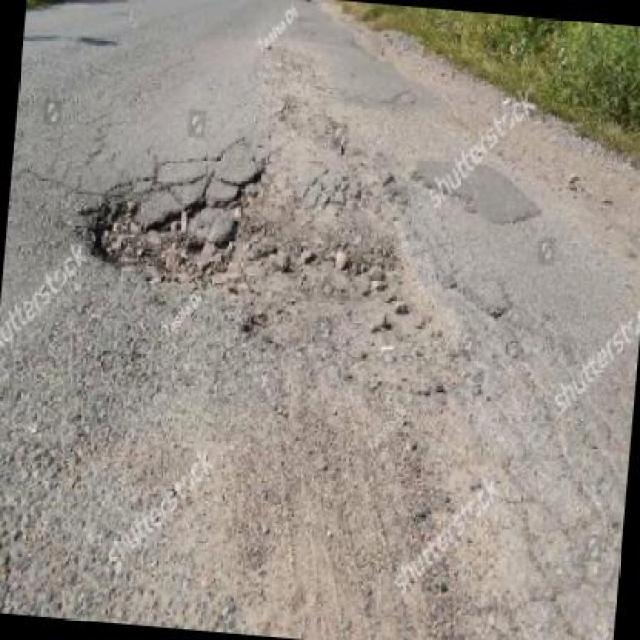pothole1: (74, 142, 263, 292)
